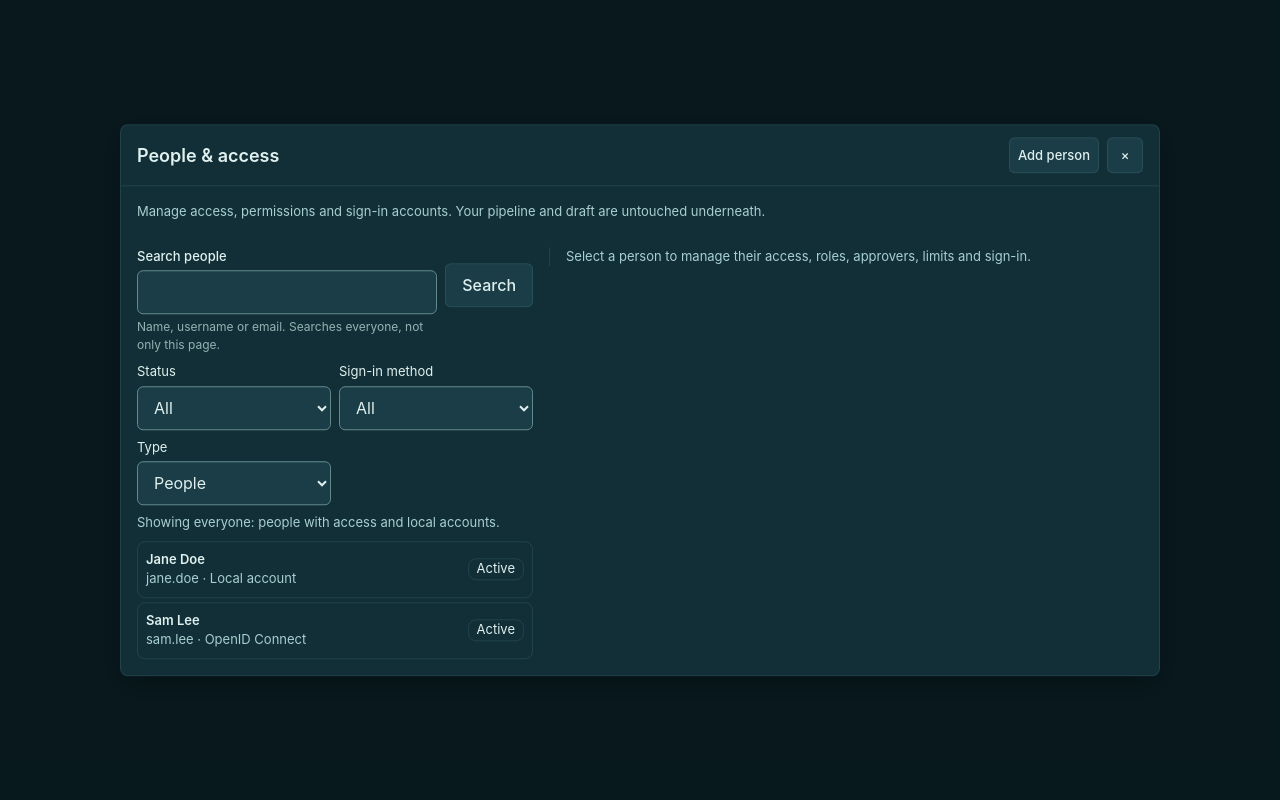
People & access: implementation review regressions › does not show a password whose reset answers after the capability was lost
Click the button "Jane Doe jane.doe · Local account Active" at [175, 559], box [137,541,533,598]
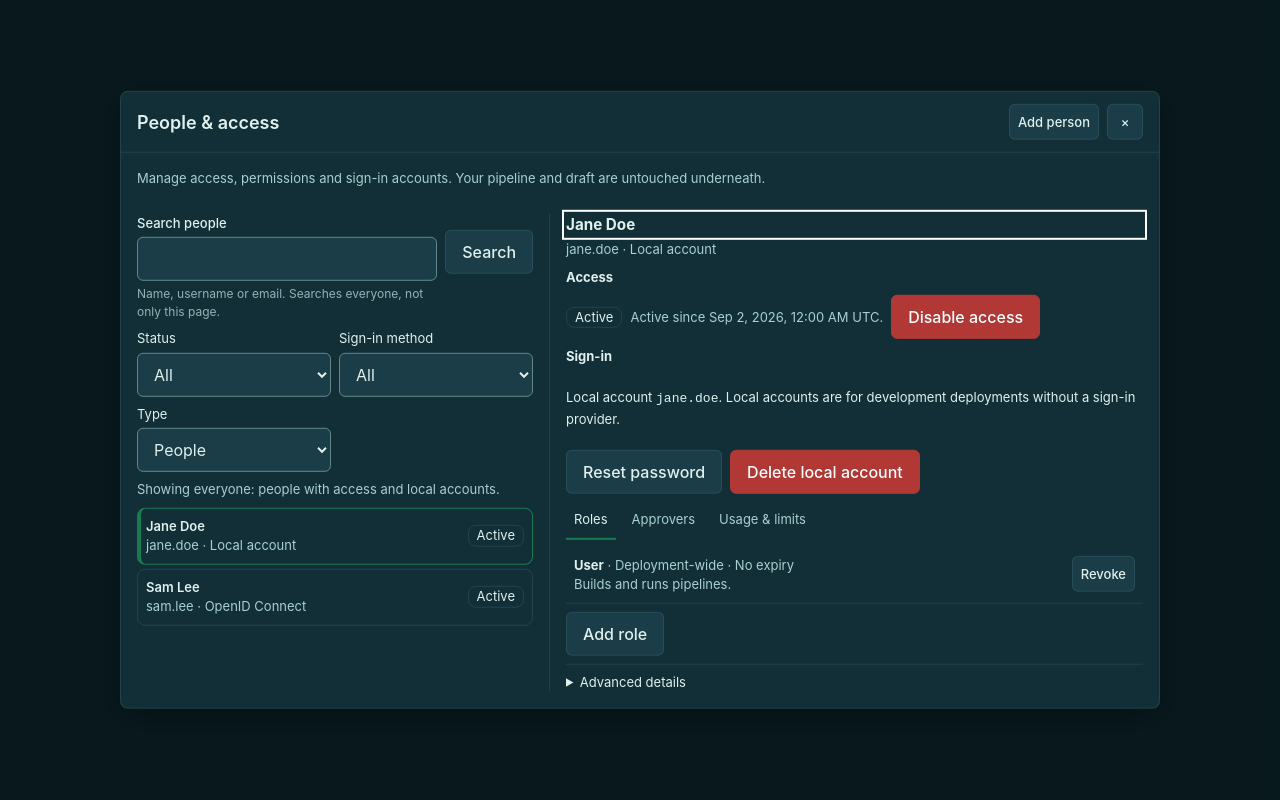
Expected: the button "Add role" is shown, [566,612,664,656]
Click the button with aria-label "Reset password for Jane Doe" at [644, 472], box [566,450,722,494]
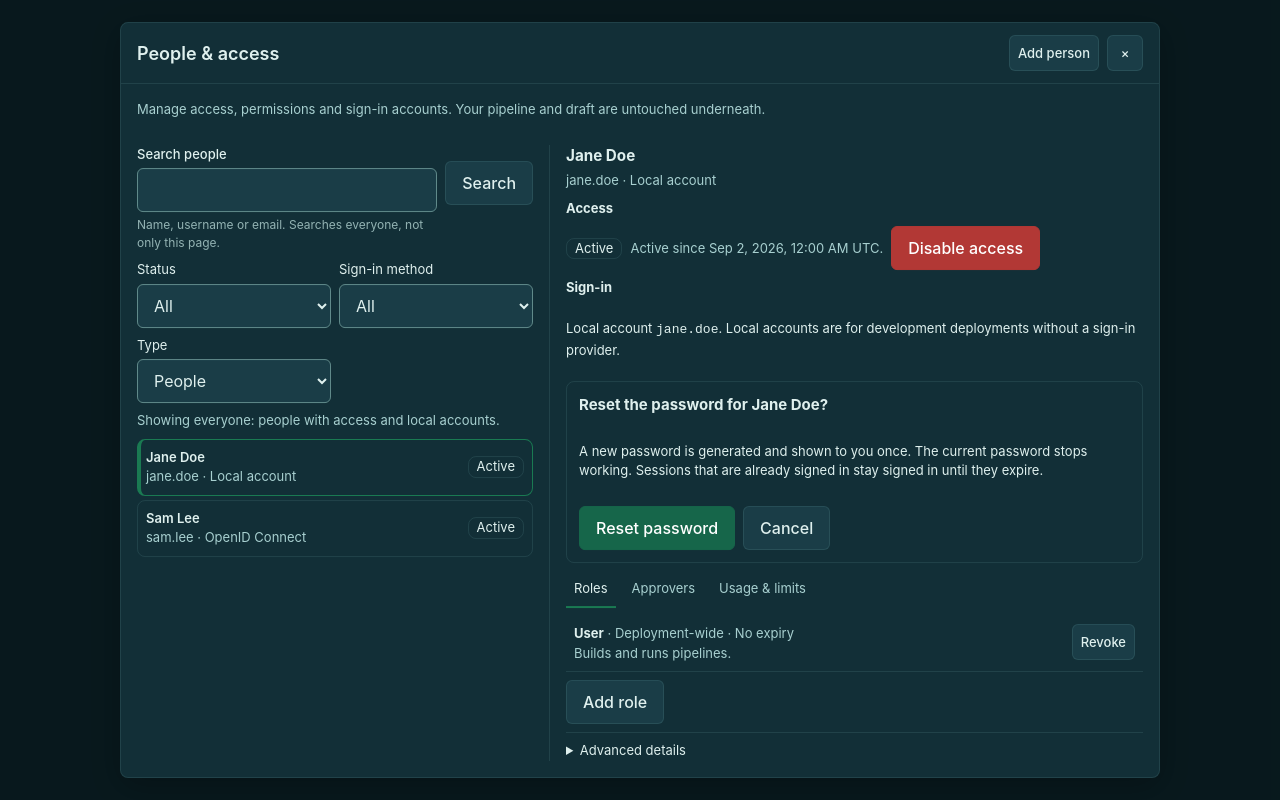
Click the button "Reset password" at [657, 528], box [579,506,735,550]
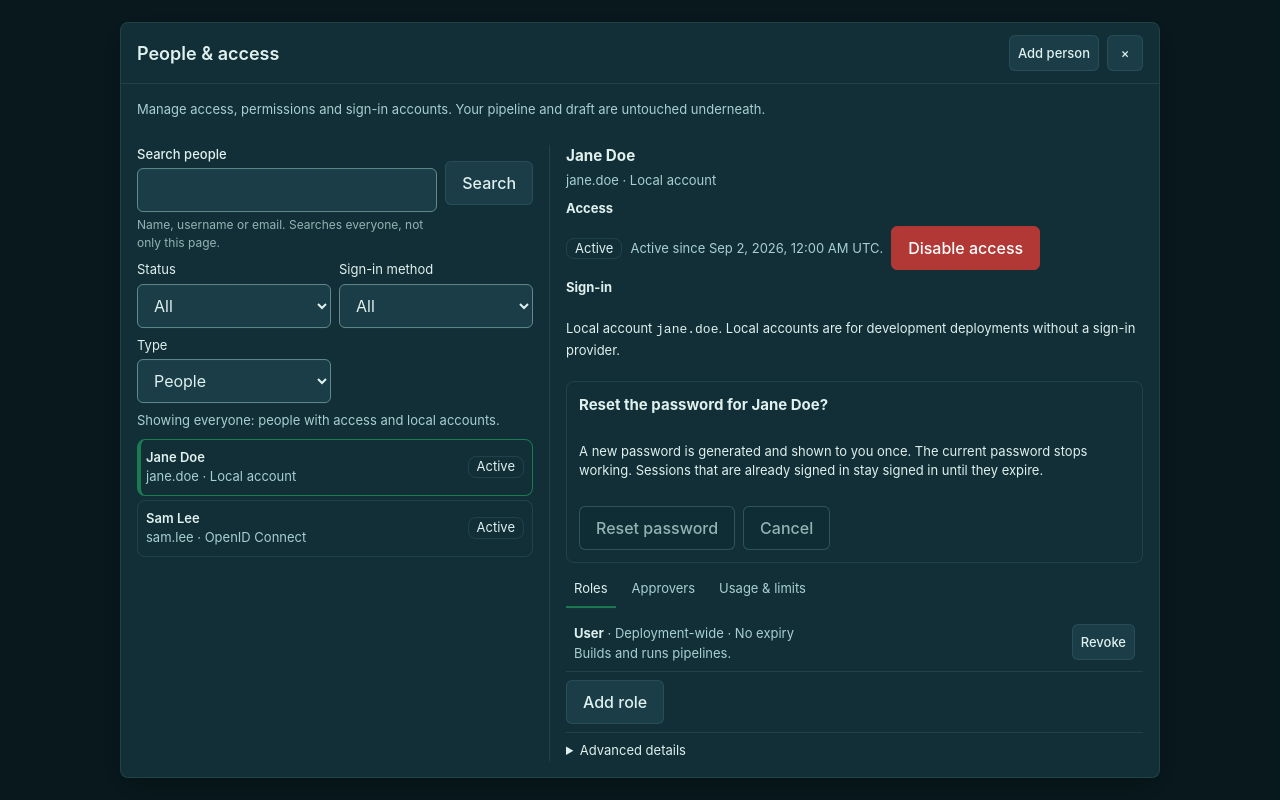
Click the button "Sam Lee sam.lee · OpenID Connect Active" at [173, 518], box [137,500,533,557]
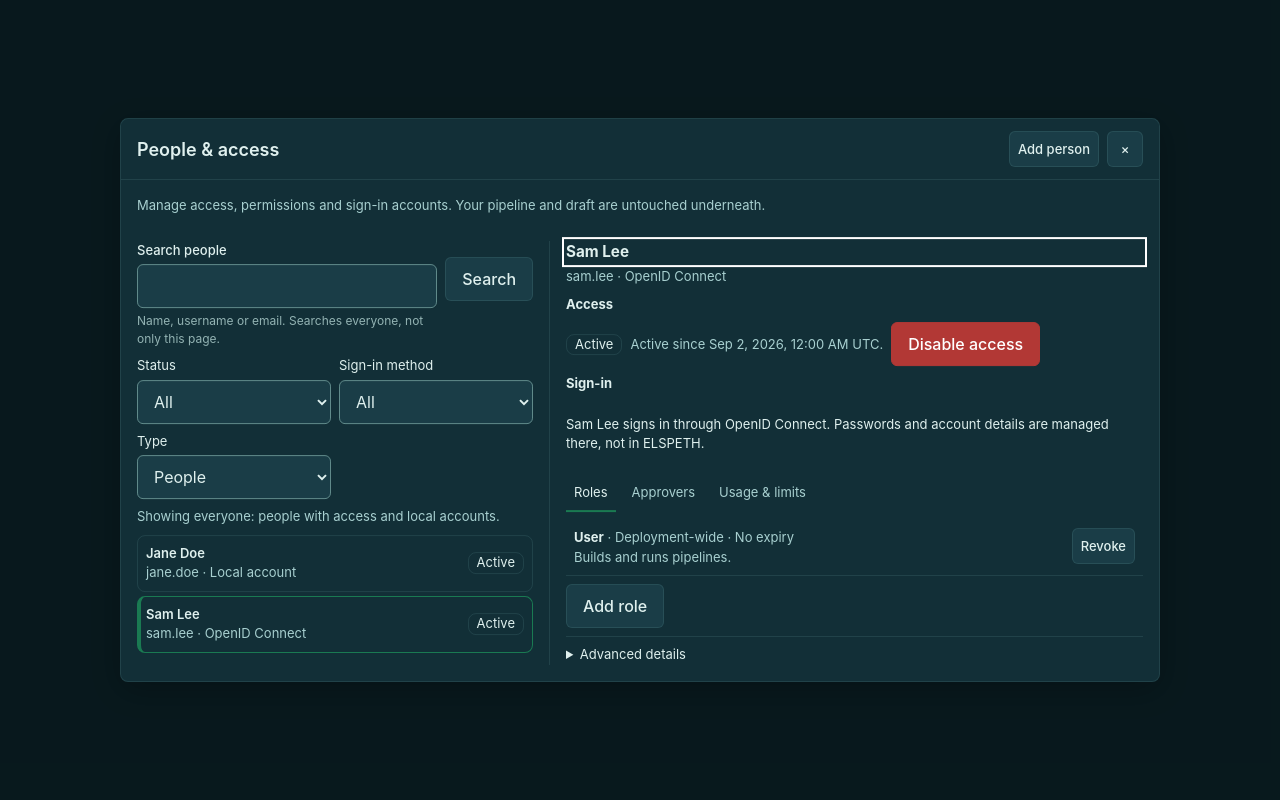
Click the button "Add role" at [615, 606], box [566,584,664,628]
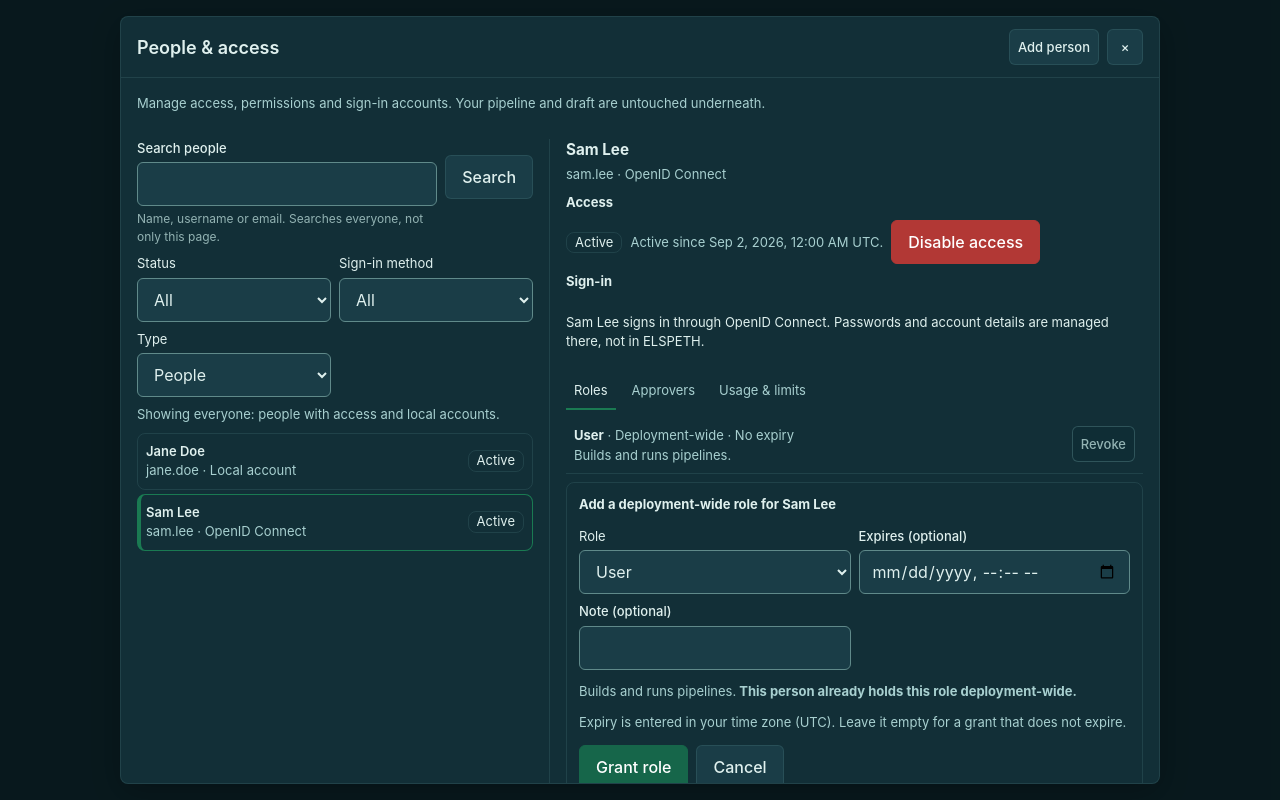
Click the button "Grant role" at [634, 767], box [579,745,688,789]
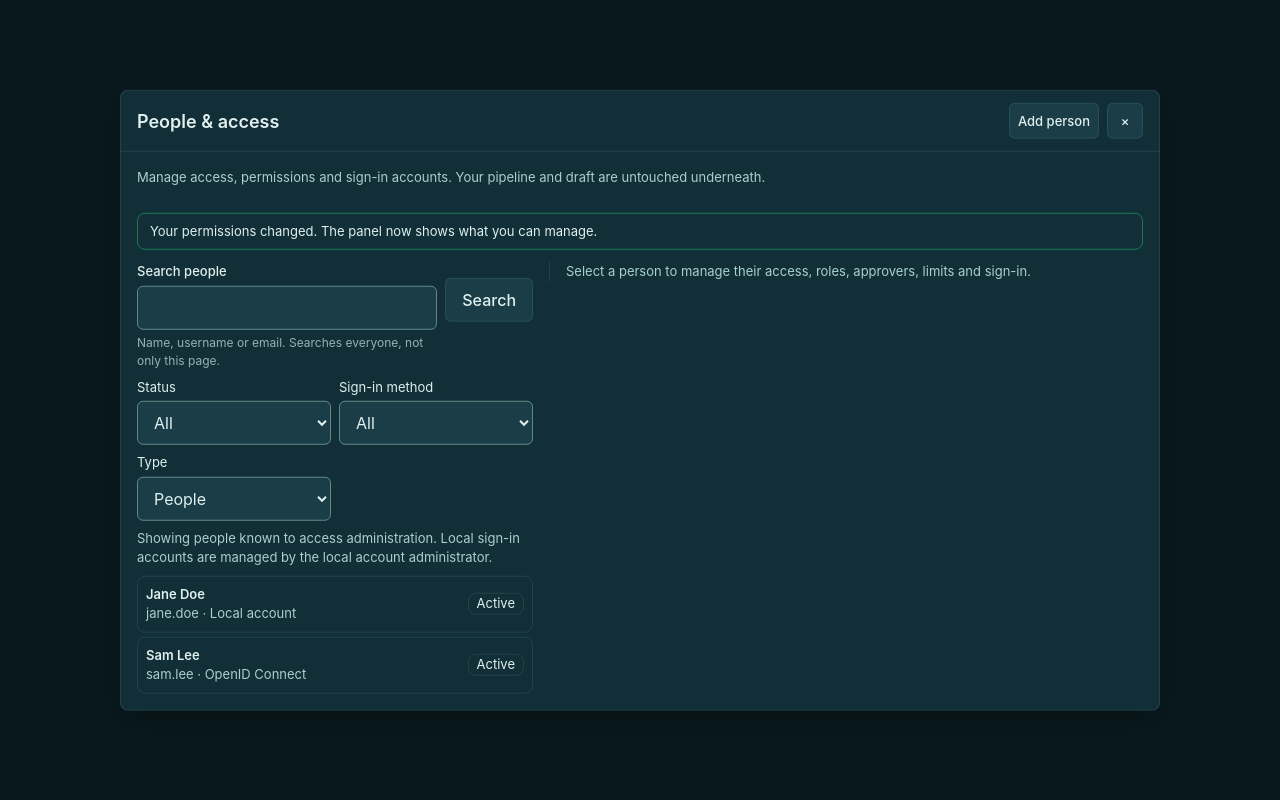
Expected: the text "Your permissions changed. The panel now shows what you can manage." is shown, [137,212,1143,250]
